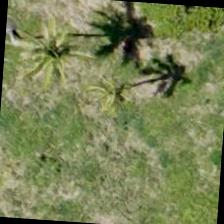Kelapa_Sawit: (61, 50, 157, 146), (2, 9, 97, 105)
